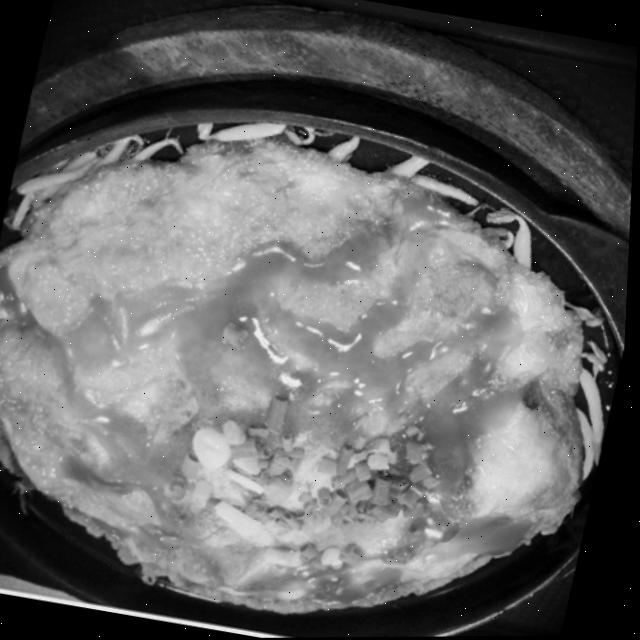炸货点心: (0, 63, 638, 640)
蛋糕甜品: (0, 63, 638, 640)
